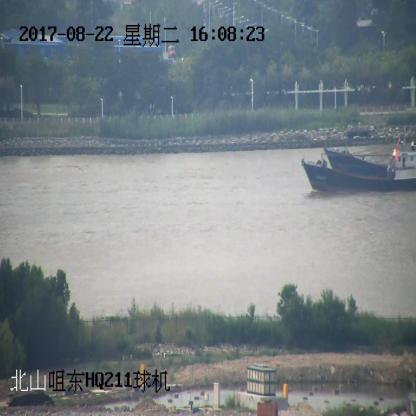Fishing Boat: (300, 158, 416, 194), (323, 138, 416, 173)
